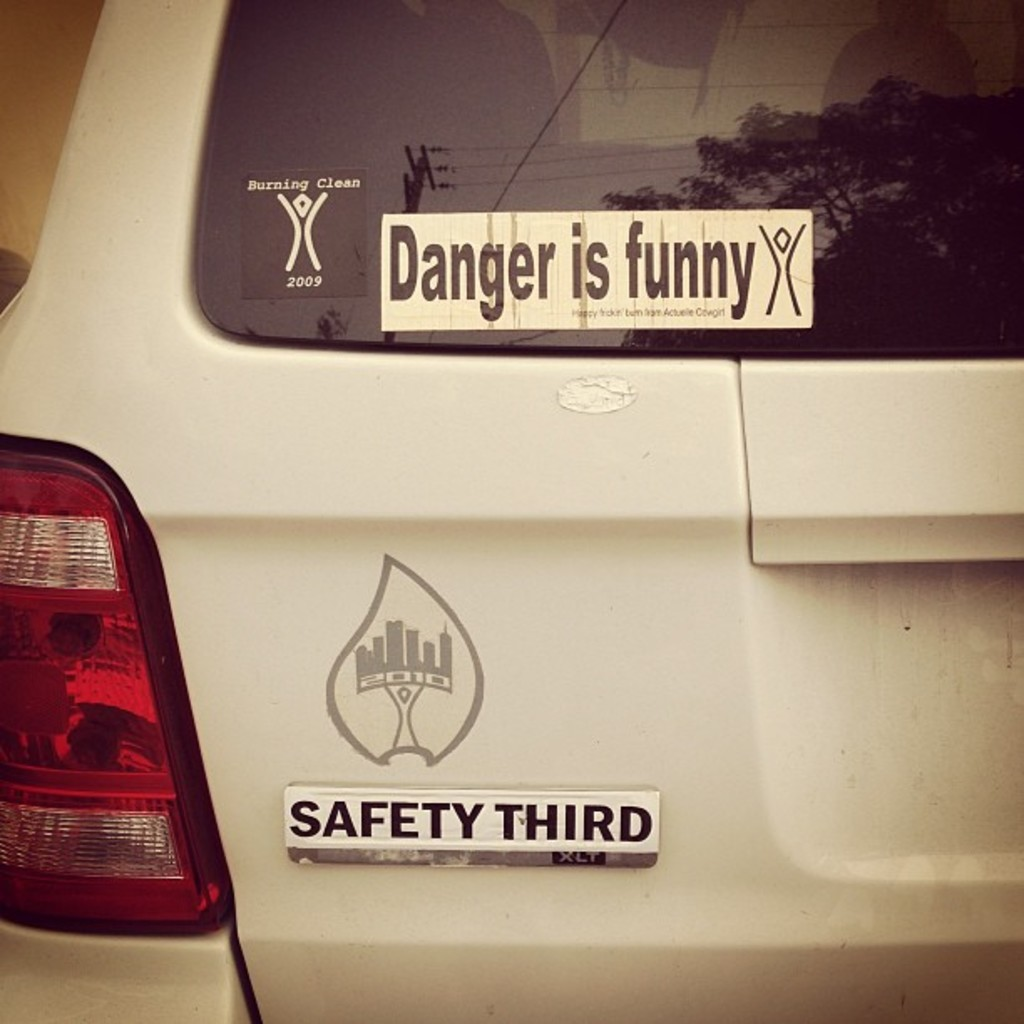Car: (0, 66, 973, 995)
